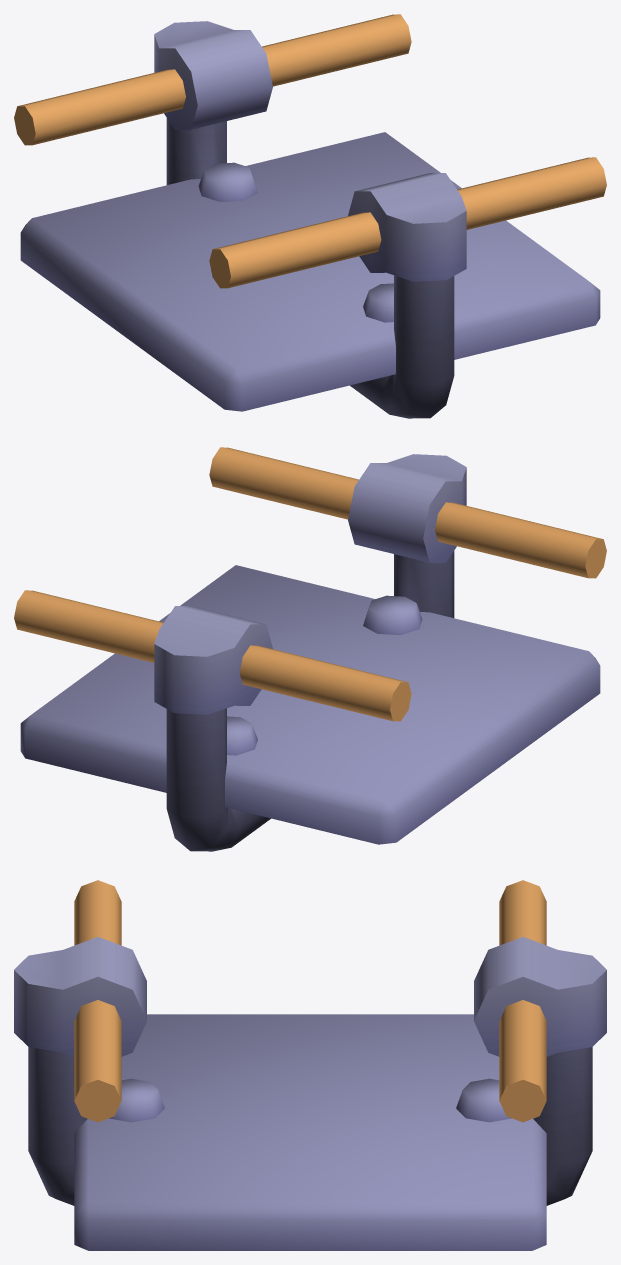
Rendered from catwalk-straight.glb.
The picture shows the model from 3 angles, top to bottom: view 1: azimuth 30°, elevation 25°; view 2: azimuth 150°, elevation 25°; view 3: azimuth 270°, elevation 25°; orthographic projection. The views are drawn at different scales.
Parts seen in each view (by area): view 1: catwalk-straight; view 2: catwalk-straight; view 3: catwalk-straight.
Part boxes in pixels (left/top/right/bottom): catwalk-straight: left=14, top=14, right=606, bottom=418; catwalk-straight: left=14, top=447, right=606, bottom=851; catwalk-straight: left=14, top=880, right=606, bottom=1250.
Size of the model in its own units: 1 by 0.6013 by 1.26.
1 material, 1 textured.
